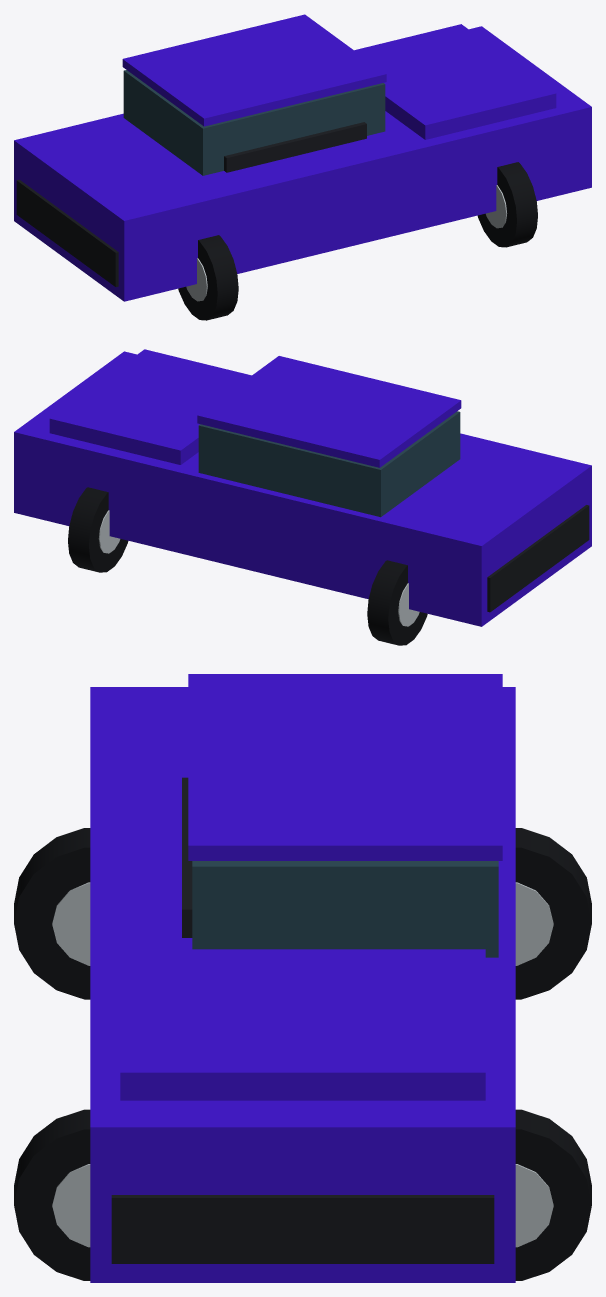
File: chevy_blazer_ev.glb
3 views of the same model, one above another, from view 1: azimuth 30°, elevation 25°; view 2: azimuth 150°, elevation 25°; view 3: azimuth 270°, elevation 25° (orthographic). The views are drawn at different scales.
Parts seen in each view (by area): view 1: body, roof, hood, cabin, rear_bumper, front_right_wheel, rear_right_wheel, interior; view 2: body, roof, cabin, hood, rear_bumper, front_left_wheel, rear_left_wheel; view 3: body, roof, hood, cabin, front_bumper, front_left_wheel, front_right_wheel, rear_left_wheel, rear_right_wheel, interior.
Part boxes in pixels (bbox=[...]): body: bbox=[14, 26, 591, 301]; roof: bbox=[122, 14, 386, 126]; hood: bbox=[354, 24, 556, 139]; cabin: bbox=[123, 70, 385, 175]; rear_bumper: bbox=[16, 179, 118, 286]; front_right_wheel: bbox=[477, 162, 537, 247]; rear_right_wheel: bbox=[178, 235, 238, 320]; interior: bbox=[224, 122, 366, 172]; body: bbox=[14, 351, 591, 626]; roof: bbox=[197, 356, 461, 467]; cabin: bbox=[198, 411, 460, 517]; hood: bbox=[49, 349, 251, 464]; rear_bumper: bbox=[487, 505, 589, 612]; front_left_wheel: bbox=[68, 487, 128, 572]; rear_left_wheel: bbox=[367, 560, 427, 645]; body: bbox=[90, 687, 515, 1282]; roof: bbox=[188, 674, 502, 860]; hood: bbox=[120, 949, 485, 1100]; cabin: bbox=[192, 861, 498, 957]; front_bumper: bbox=[111, 1195, 494, 1263]; front_left_wheel: bbox=[515, 1109, 591, 1280]; front_right_wheel: bbox=[14, 1109, 90, 1280]; rear_left_wheel: bbox=[515, 828, 591, 999]; rear_right_wheel: bbox=[14, 828, 90, 999]; interior: bbox=[182, 777, 192, 937].
Size of the model in its own units: 4.96 by 1.74 by 2.72.
